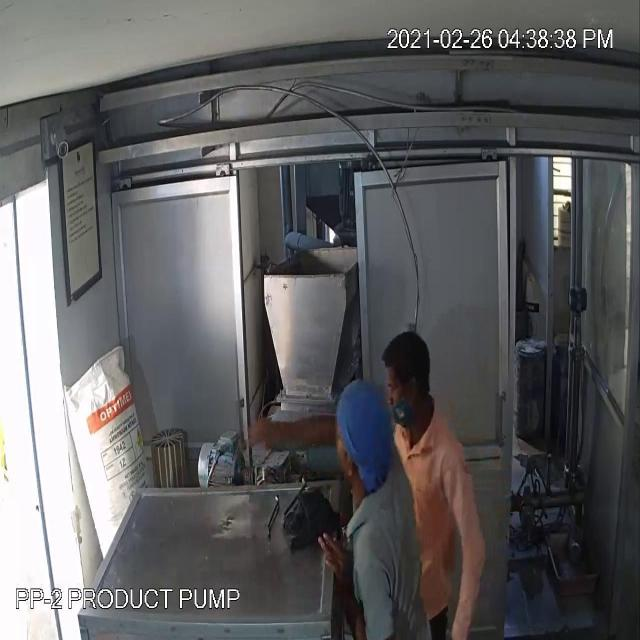no-helmet: (377, 324, 435, 410)
